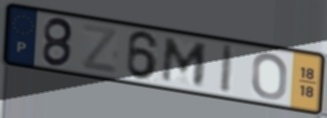6: (126, 29, 160, 83)
8: (40, 16, 74, 69)
I: (218, 43, 237, 96)
M: (159, 35, 210, 88)
O: (250, 51, 290, 102)
Z: (80, 22, 121, 77)
